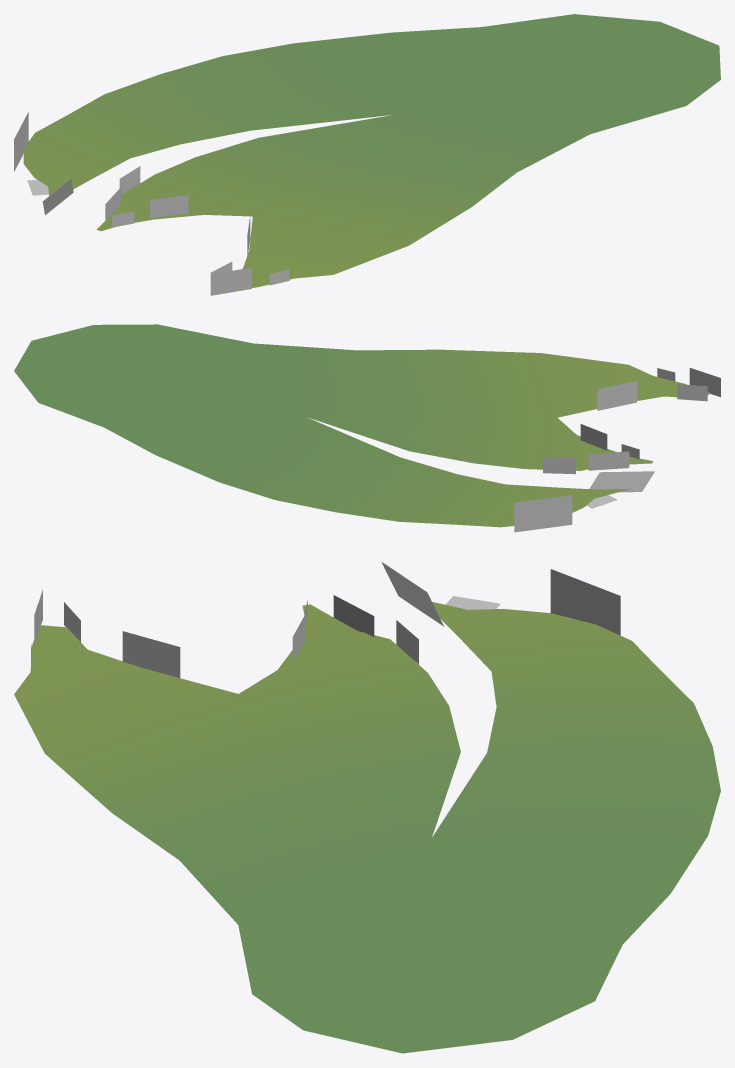
Rendered from Mesh_Battle_Forest_Ground_08.FBX.
3 views of the same model, one above another, from view 1: azimuth 30°, elevation 25°; view 2: azimuth 150°, elevation 25°; view 3: azimuth 270°, elevation 25° (orthographic). The views are drawn at different scales.
Parts seen in each view (by area): view 1: Mesh_Battle_Forest_Ground_08, Mesh_Battle_Forest_Grass_07; view 2: Mesh_Battle_Forest_Ground_08, Mesh_Battle_Forest_Grass_07; view 3: Mesh_Battle_Forest_Ground_08, Mesh_Battle_Forest_Grass_07.
Boxes of the visible parts, x1,y1,x2,y2 form: Mesh_Battle_Forest_Ground_08: (23,14,720,292); Mesh_Battle_Forest_Grass_07: (14,112,289,295); Mesh_Battle_Forest_Ground_08: (14,324,711,527); Mesh_Battle_Forest_Grass_07: (514,368,720,532); Mesh_Battle_Forest_Ground_08: (14,602,720,1053); Mesh_Battle_Forest_Grass_07: (31,562,620,677).
Size of the model in its own units: 311 by 14.36 by 199.
